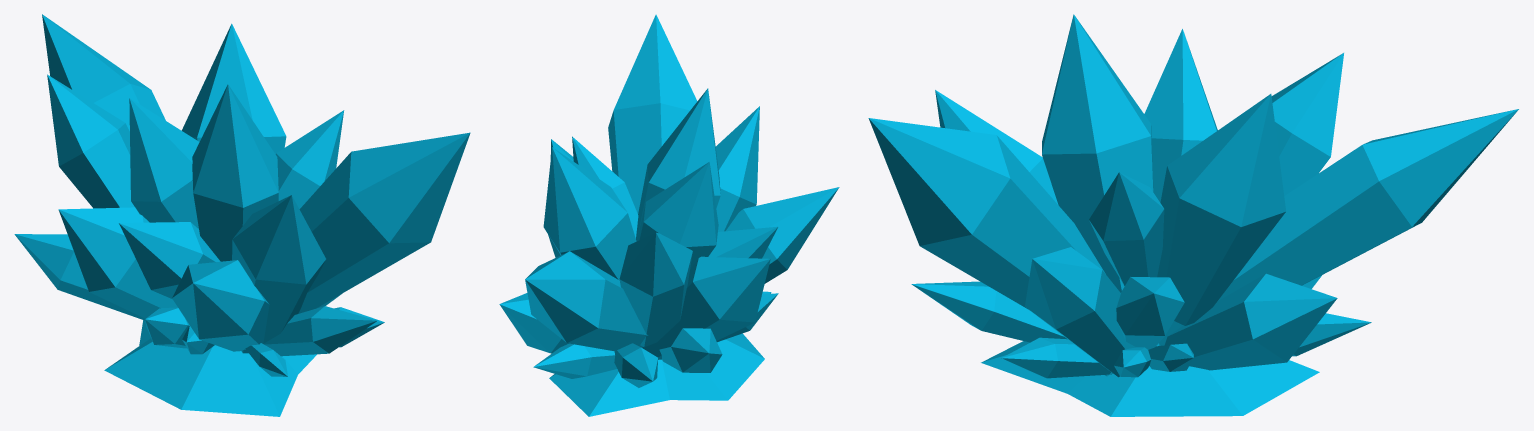
The model's file is Dummy_Crystal.fbx.
The picture shows the model from 3 angles, left to right: view 1: azimuth 30°, elevation 25°; view 2: azimuth 150°, elevation 25°; view 3: azimuth 270°, elevation 25°; orthographic projection. The views are drawn at different scales.
Visible parts, largest first — view 1: Dummy_Crystal; view 2: Dummy_Crystal; view 3: Dummy_Crystal.
Boxes of the visible parts, left/top/right/bottom form: Dummy_Crystal: left=14, top=14, right=470, bottom=416; Dummy_Crystal: left=499, top=14, right=839, bottom=416; Dummy_Crystal: left=868, top=14, right=1518, bottom=416.
Bounding box in the file's own units: 7.97 × 7.27 × 12.5.
